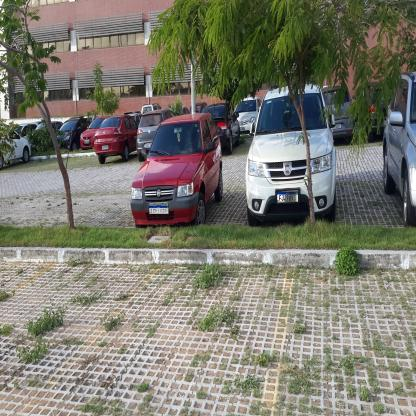PlacaM: (277, 192, 298, 202), (148, 206, 169, 214)
